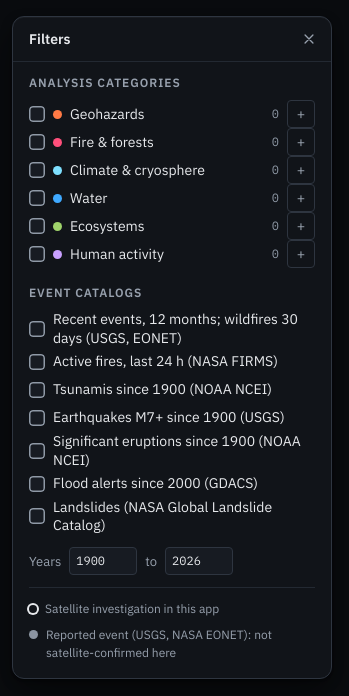
Filters: year range inputs show the applied range › shows the current year after blur when To is in the future or emptied
The image size is (349, 696).
Replace the text in the number field named "To year" with "2030" at x=199, y=561, box 165,547 -> 233,575
Wait 300 ms
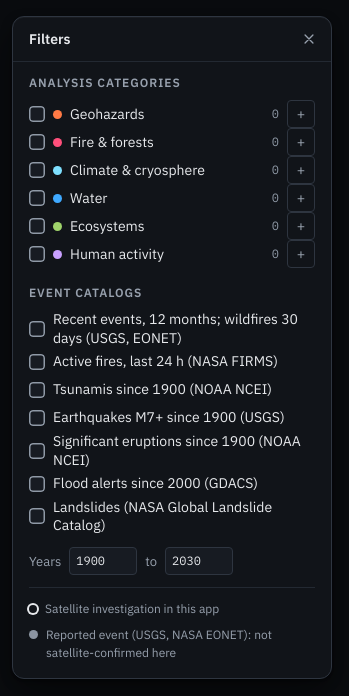
Leave the number field named "To year", box 165,547 -> 233,575
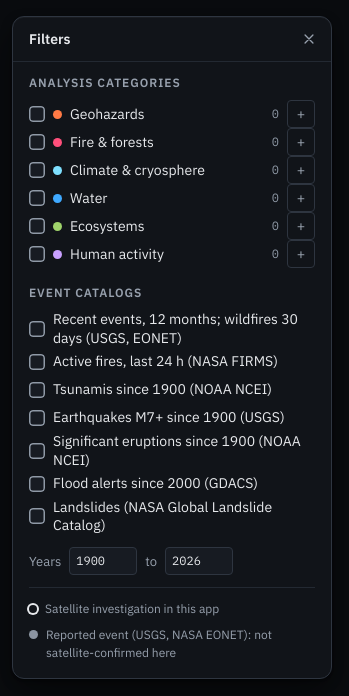
Check: the number field named "To year" holds "2026"
Clear the number field named "To year" at x=199, y=561, box 165,547 -> 233,575
Wait 300 ms
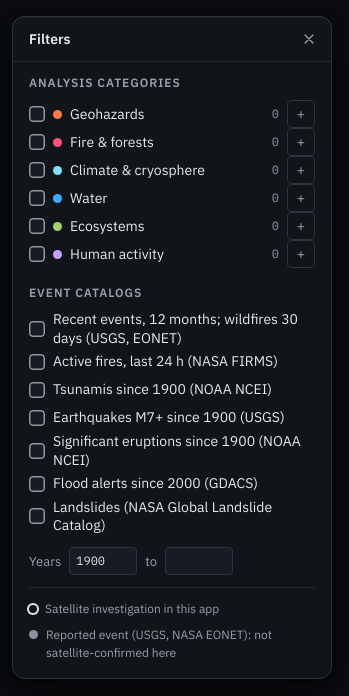
Leave the number field named "To year", box 165,547 -> 233,575
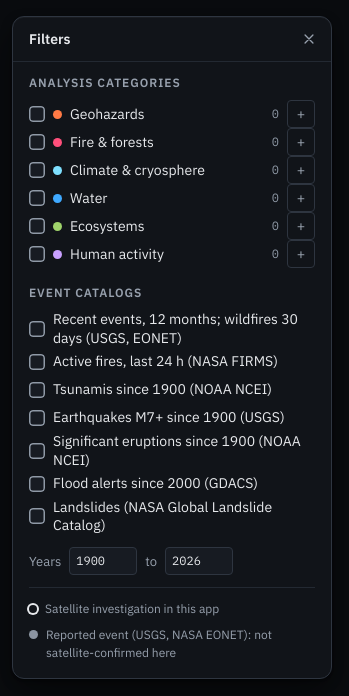
Check: the number field named "To year" holds "2026", box 165,547 -> 233,575
